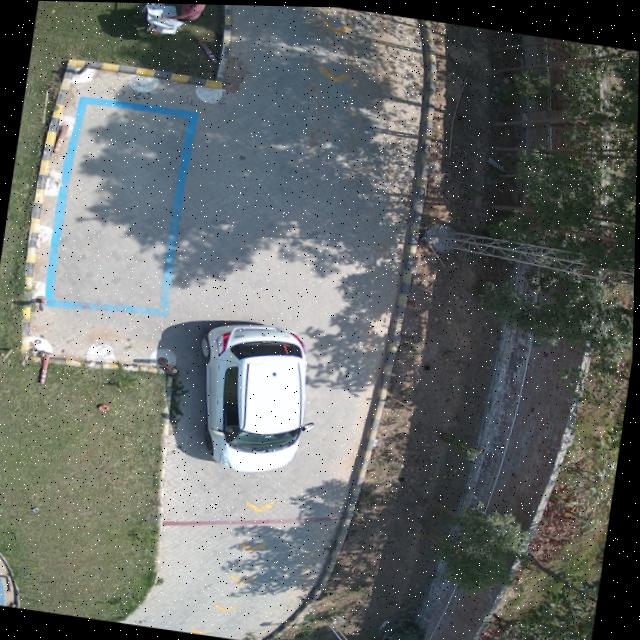car: (201, 321, 314, 471)
